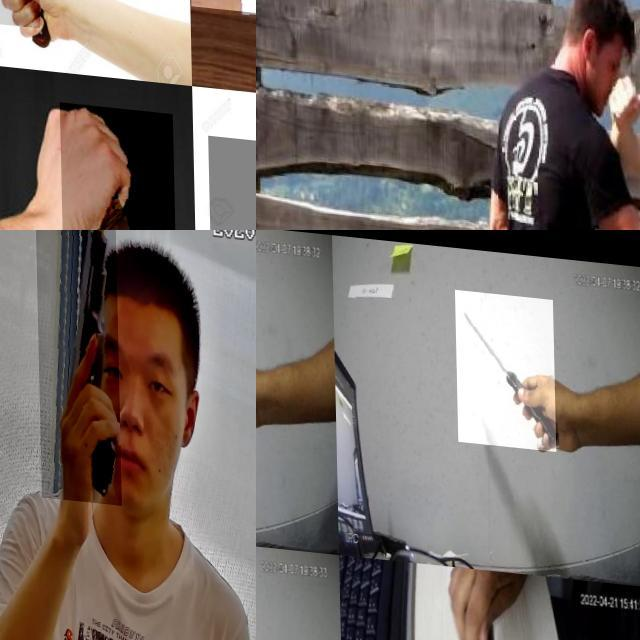-: (455, 280, 556, 440), (58, 98, 175, 230), (0, 0, 66, 135), (256, 268, 310, 419)
gun-knife-thesis - v11 Yolov5 augmented: (34, 230, 120, 498)
